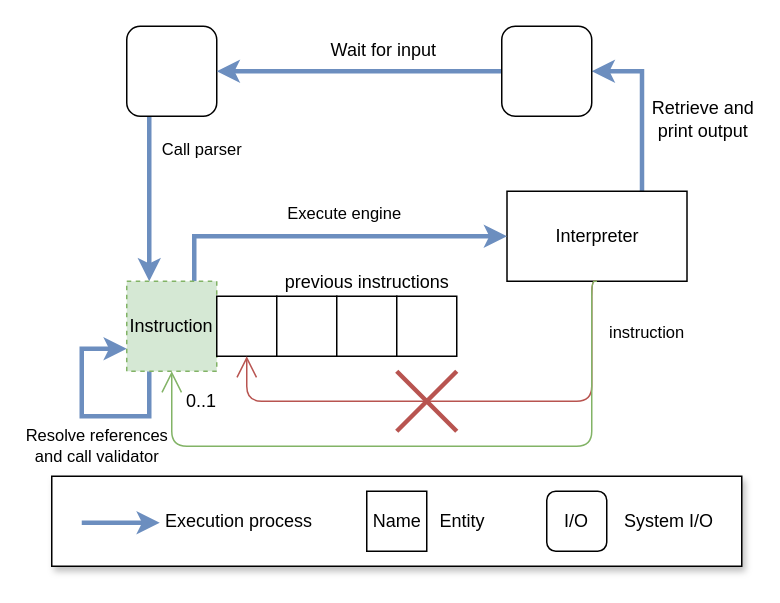
This 780x603 diagram has some shape labels left out. Each missing label, with the centre of its shape:
"INPUT" goes at pixel 171 70.
"OUTPUT" goes at pixel 546 70.
